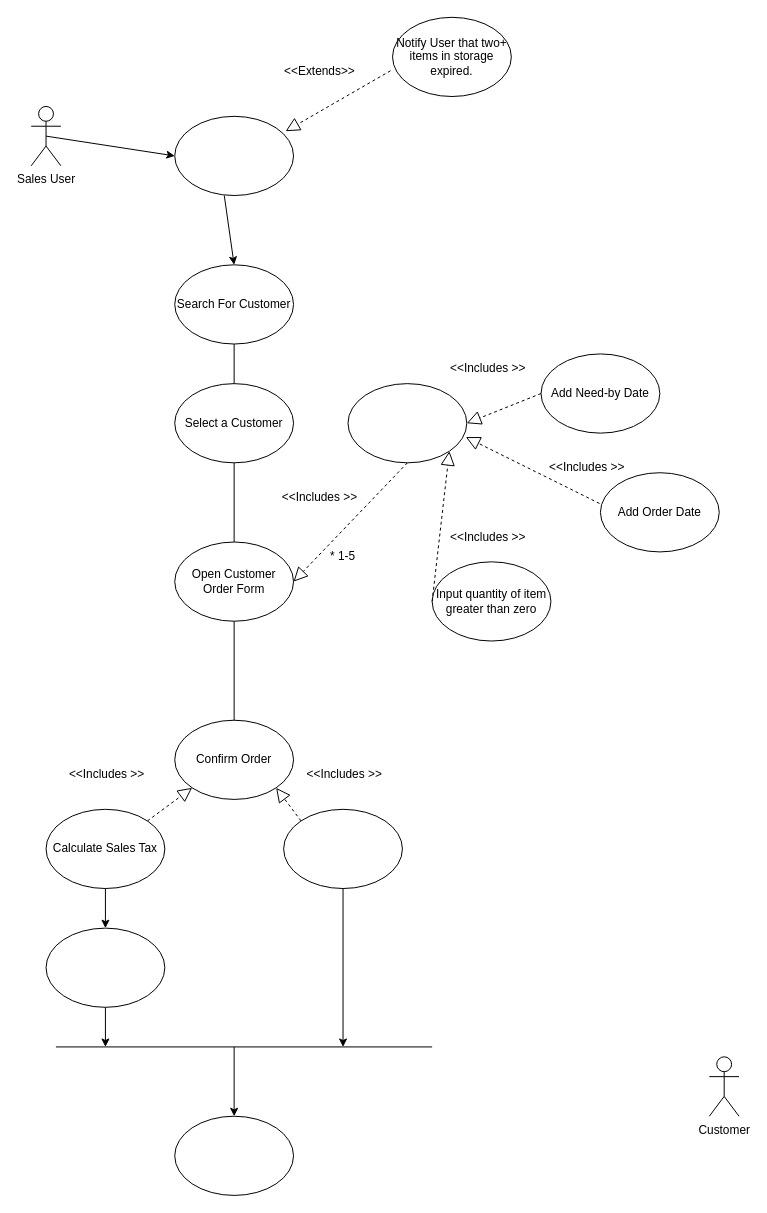
Some shapes in this 767 by 1213 pixel diagram are drawn without their labels. The box of each missing label's shape, as (x1, y1, x2, y2) in pixels:
Calculate Total Cost: (45, 927, 165, 1007)
Generate Purchase ID: (283, 808, 402, 889)
Log-in to page: (174, 115, 294, 196)
Select Item from Dropdown List: (347, 383, 467, 463)
Update Quantity of items in storage: (174, 1115, 294, 1195)
